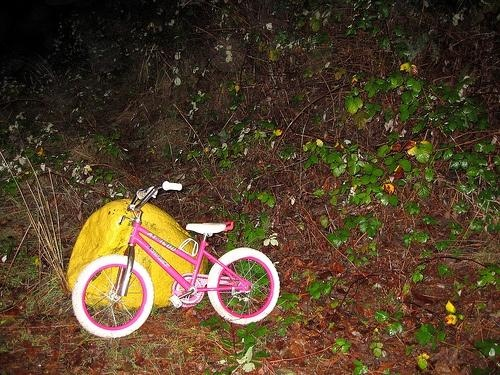bicycle: (72, 180, 281, 340)
